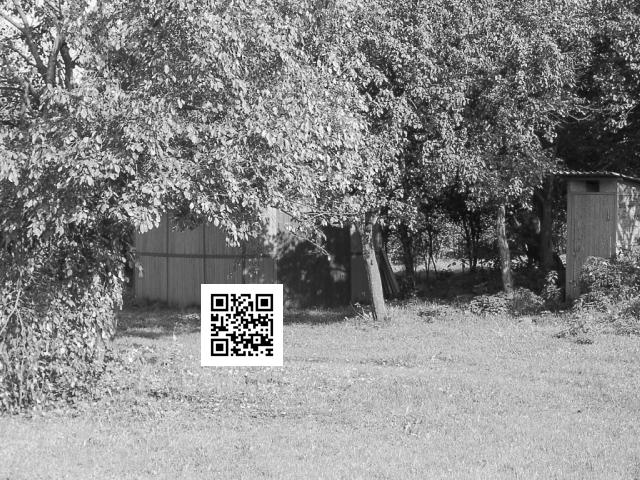qr_code: (201, 284, 282, 365)
